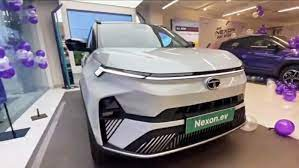Tata Nexon: (65, 17, 249, 162)
